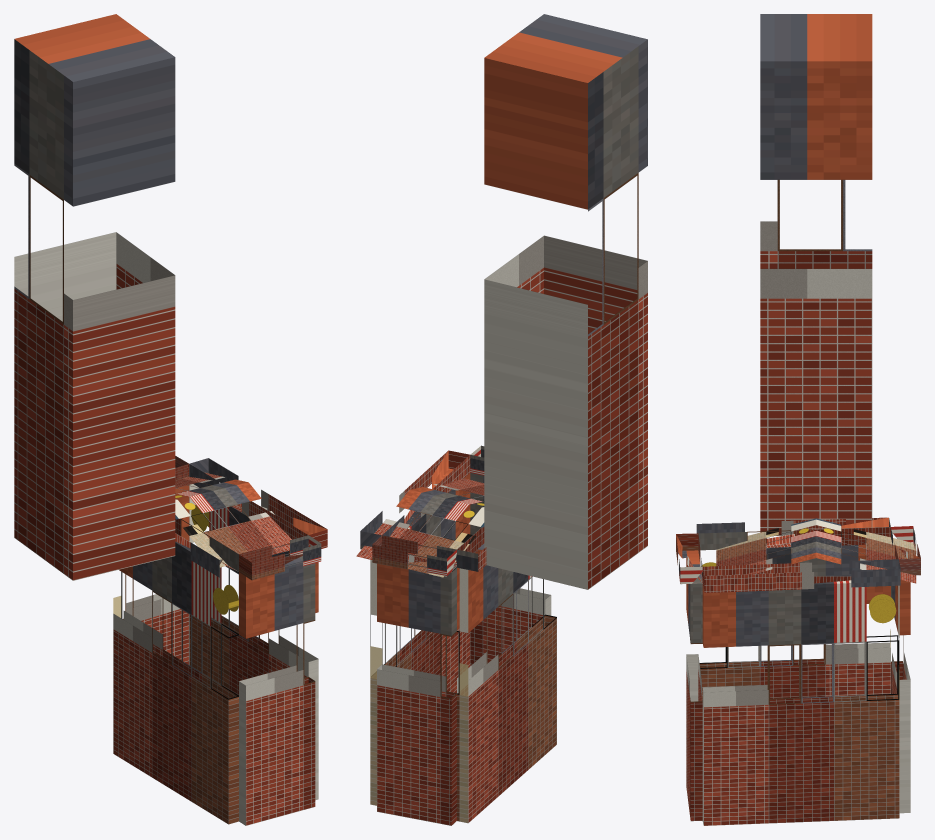
The picture shows the model from 3 angles, left to right: view 1: azimuth 30°, elevation 25°; view 2: azimuth 150°, elevation 25°; view 3: azimuth 270°, elevation 25°; orthographic projection. The views are drawn at different scales.
Visible parts, largest first — view 1: 1106966932__chimney_0_xb, 1106966932__wall_3_xb, 1106966932__wall_2_xb, 1106966932__wall_1_xb, 1106966932_roof_-1_xb, 1106966932__wall_0_xb, 1106966932__cornice_1, 1106966932__cornice_2, 1106966932__cornice_3, 1106966932_roof_1_xb; view 2: 1106966932__chimney_0_xb, 1106966932__wall_3_xb, 1106966932__wall_0_xb, 1106966932__wall_1_xb, 1106966932__wall_2_xb, 1106966932_roof_1_xb, 1106966932__cornice_1, 1106966932__cornice_0, 1106966932_roof_-1_xb, 1106966932__cornice_3; view 3: 1106966932__chimney_0_xb, 1106966932__wall_1_xb, 1106966932__wall_3_xb, 1106966932__cornice_1, 1106966932__wall_2_xb, 1106966932__cornice_3, 1106966932__wall_0_xb, 1106966932_roof_-1_xb, 1106966932_roof_1_xb, 1106966932__cornice_2, 1106966932__cornice_0.
Part boxes in pixels (x1,y1,x2,y2): 1106966932__chimney_0_xb: [14, 14, 175, 580]; 1106966932__wall_3_xb: [113, 541, 238, 824]; 1106966932__wall_2_xb: [239, 556, 315, 825]; 1106966932__wall_1_xb: [189, 484, 318, 800]; 1106966932_roof_-1_xb: [175, 482, 291, 567]; 1106966932__wall_0_xb: [123, 485, 189, 664]; 1106966932__cornice_1: [189, 458, 327, 548]; 1106966932__cornice_2: [239, 535, 321, 580]; 1106966932__cornice_3: [175, 516, 238, 577]; 1106966932_roof_1_xb: [175, 472, 247, 499]; 1106966932__chimney_0_xb: [484, 14, 647, 589]; 1106966932__wall_3_xb: [457, 543, 556, 823]; 1106966932__wall_0_xb: [377, 563, 456, 825]; 1106966932__wall_1_xb: [370, 473, 470, 805]; 1106966932__wall_2_xb: [470, 473, 551, 665]; 1106966932_roof_1_xb: [356, 490, 484, 577]; 1106966932__cornice_1: [360, 450, 470, 549]; 1106966932__cornice_0: [372, 535, 456, 576]; 1106966932_roof_-1_xb: [410, 478, 484, 507]; 1106966932__cornice_3: [457, 526, 486, 571]; 1106966932__chimney_0_xb: [760, 14, 872, 535]; 1106966932__wall_1_xb: [702, 580, 899, 825]; 1106966932__wall_3_xb: [699, 544, 890, 700]; 1106966932__cornice_1: [702, 559, 900, 592]; 1106966932__wall_2_xb: [686, 550, 702, 821]; 1106966932__cornice_3: [696, 517, 890, 550]; 1106966932__wall_0_xb: [891, 580, 910, 813]; 1106966932_roof_-1_xb: [716, 518, 816, 574]; 1106966932_roof_1_xb: [816, 518, 916, 583]; 1106966932__cornice_2: [676, 533, 702, 584]; 1106966932__cornice_0: [891, 526, 920, 575].
Size of the model in its own units: 0.3311 by 1.05 by 0.3275.
Materials: 1 (1 with a texture image).
